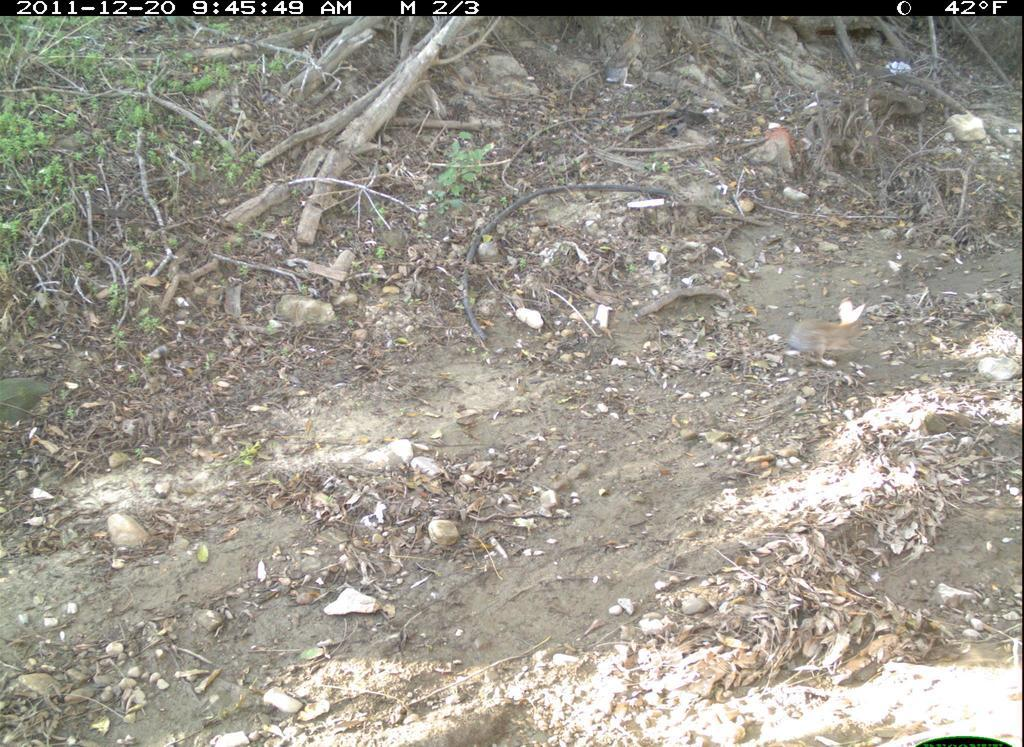rabbit: (781, 292, 881, 373)
